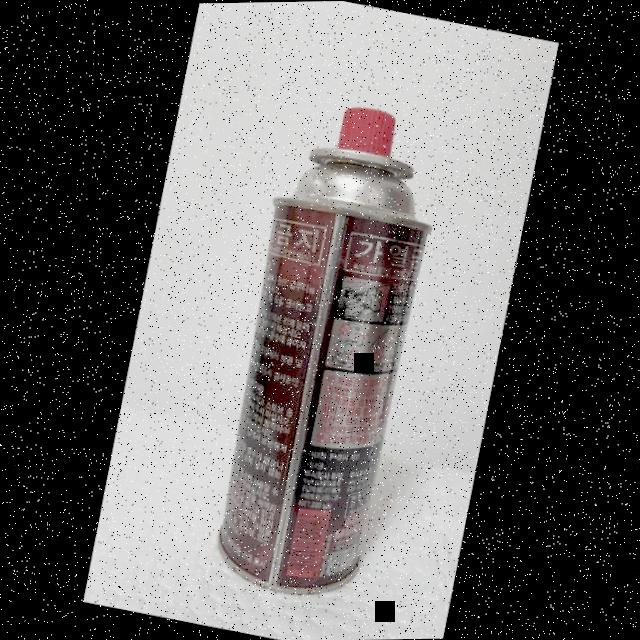chemical_spray_can: (186, 92, 475, 624)
